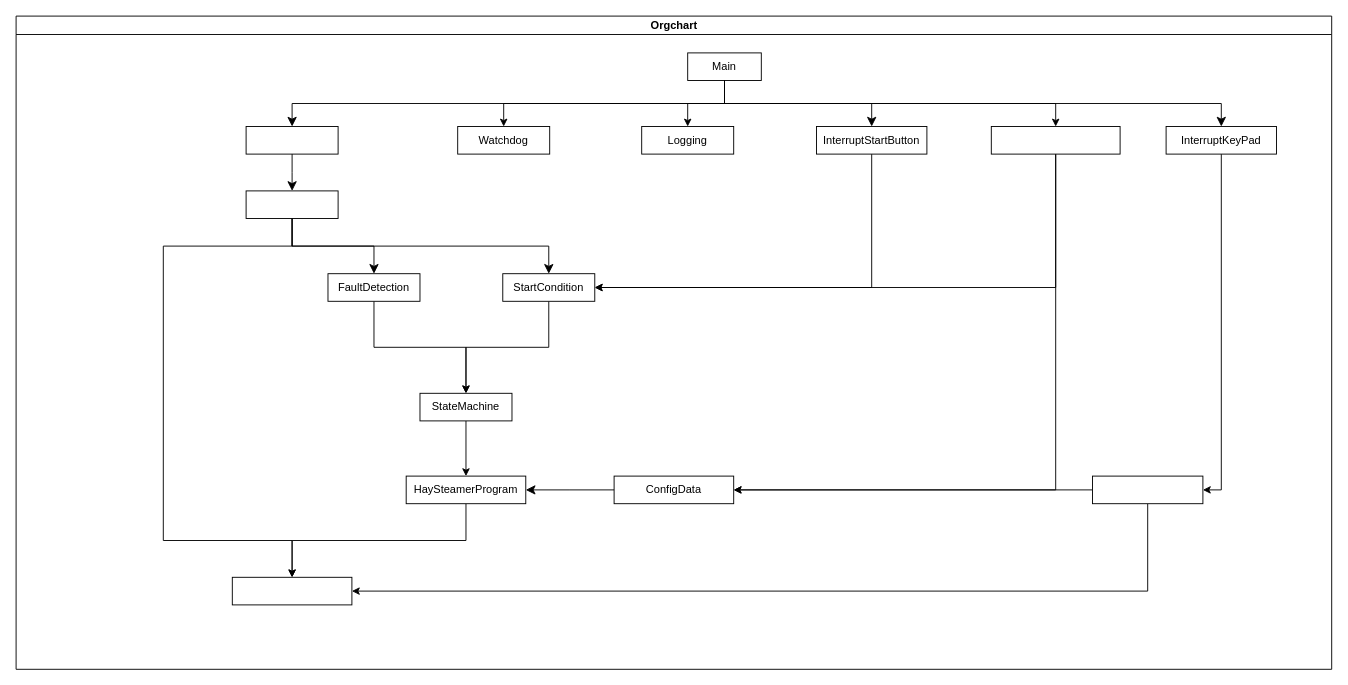
Image size: 1348x685. Some labels were removed from this diagram. Each missing label, with the centre of its shape:
CollectInputData: [291,204]
Communication_REST: [1055,140]
OutputDrivers: [291,590]
ParameterEditor: [1147,489]
TaskScheduler: [291,140]
